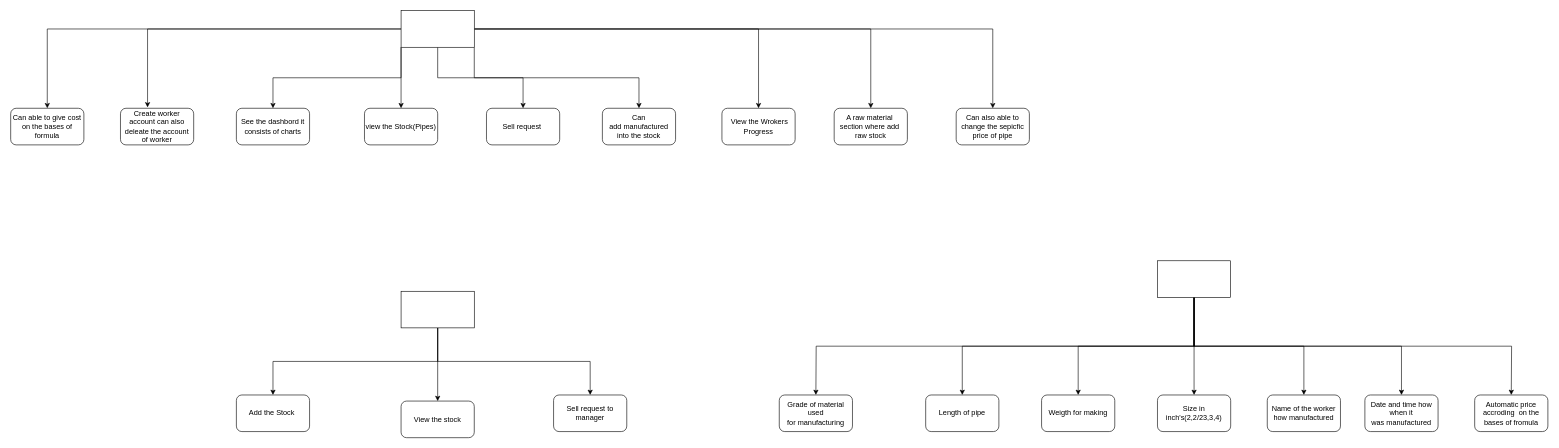
Some shapes in this 1559 by 448 pixel diagram are drawn without their labels. The box of each missing label's shape, as (x1, y1, x2, y2) in pixels:
Manager: (400, 10, 474, 47)
Pipe: (1157, 260, 1231, 297)
Worker: (400, 291, 474, 328)
